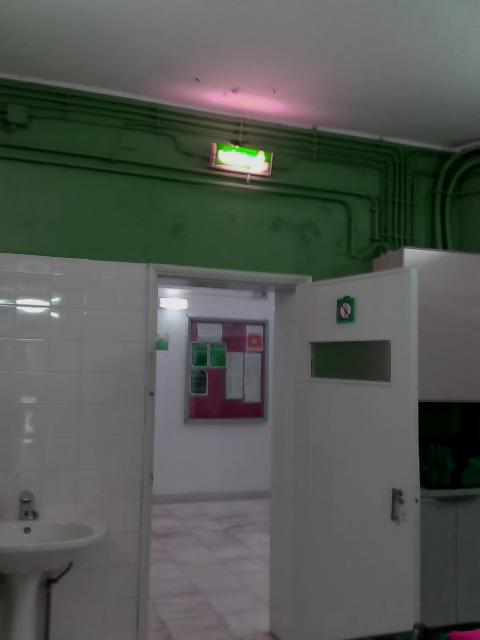open_door: (138, 260, 312, 639)
